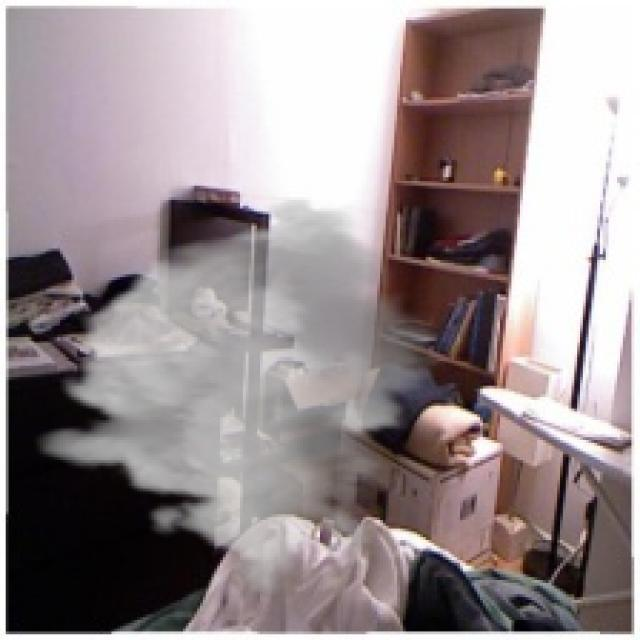Smoke: (31, 197, 452, 597)
